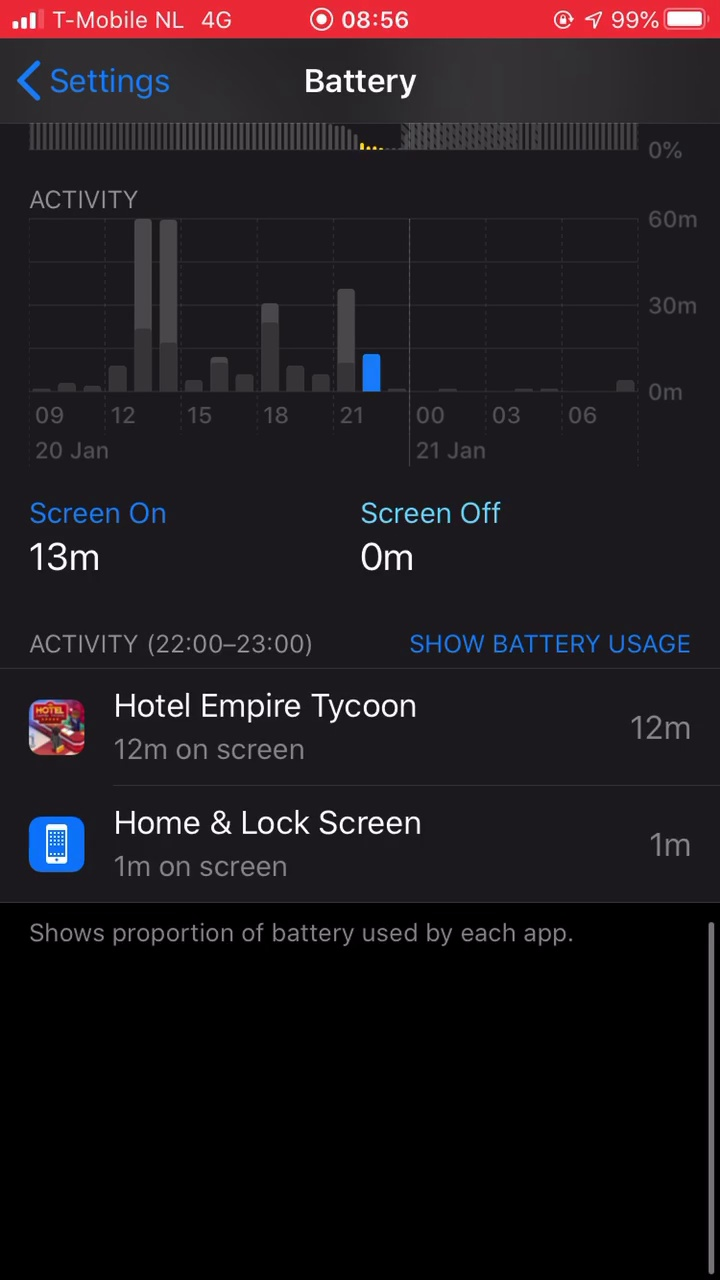activity: (23, 616, 336, 674)
app: (23, 680, 704, 775), (21, 800, 702, 895)
